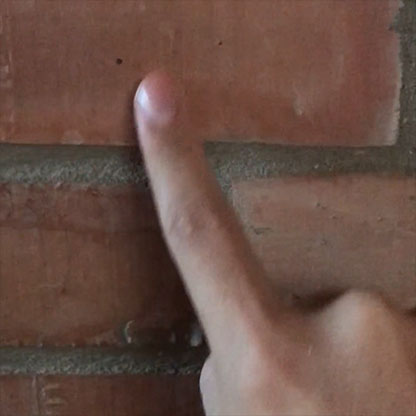fingertip: (130, 60, 200, 139)
